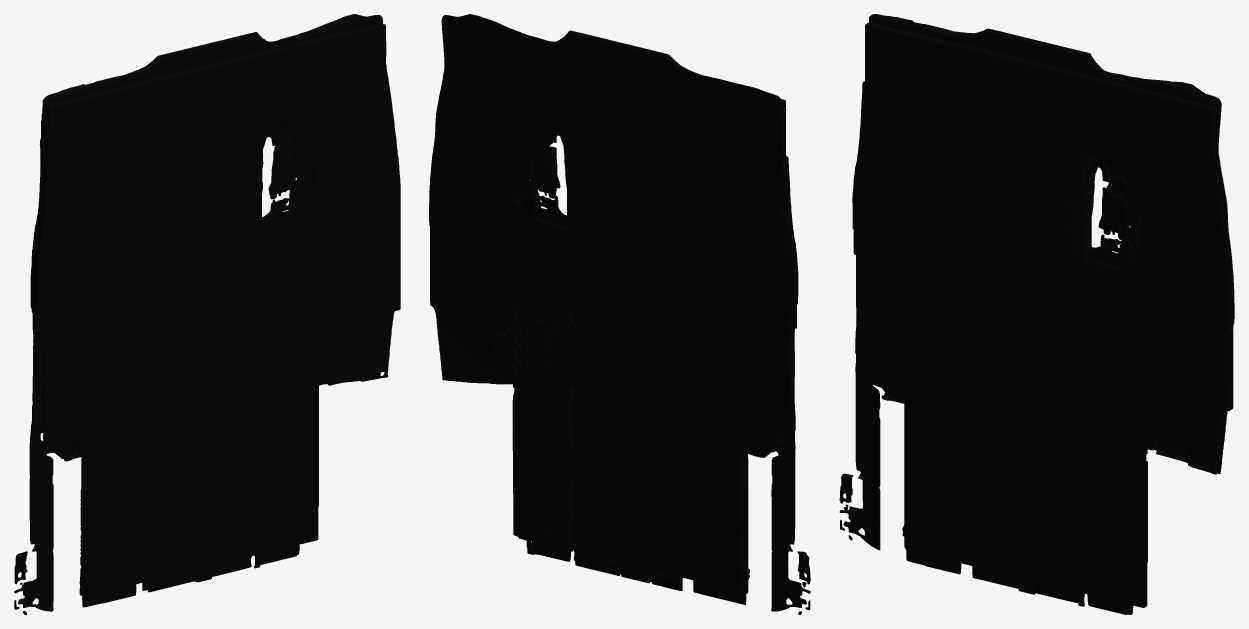
Rendered from lily-vapor-yukata-shape-512.glb.
3 views of the same model, side by side, from view 1: azimuth 30°, elevation 25°; view 2: azimuth 150°, elevation 25°; view 3: azimuth 330°, elevation 25° (orthographic). The views are drawn at different scales.
Visible parts, largest first — view 1: geometry_0; view 2: geometry_0; view 3: geometry_0.
Part boxes in pixels (x1,y1,x2,y2): geometry_0: (14, 14, 400, 614); geometry_0: (429, 14, 810, 614); geometry_0: (839, 14, 1234, 614).
Bounding box in the file's own units: 0.7536 × 1 × 0.0257.
Materials: 1 (1 with a texture image).
